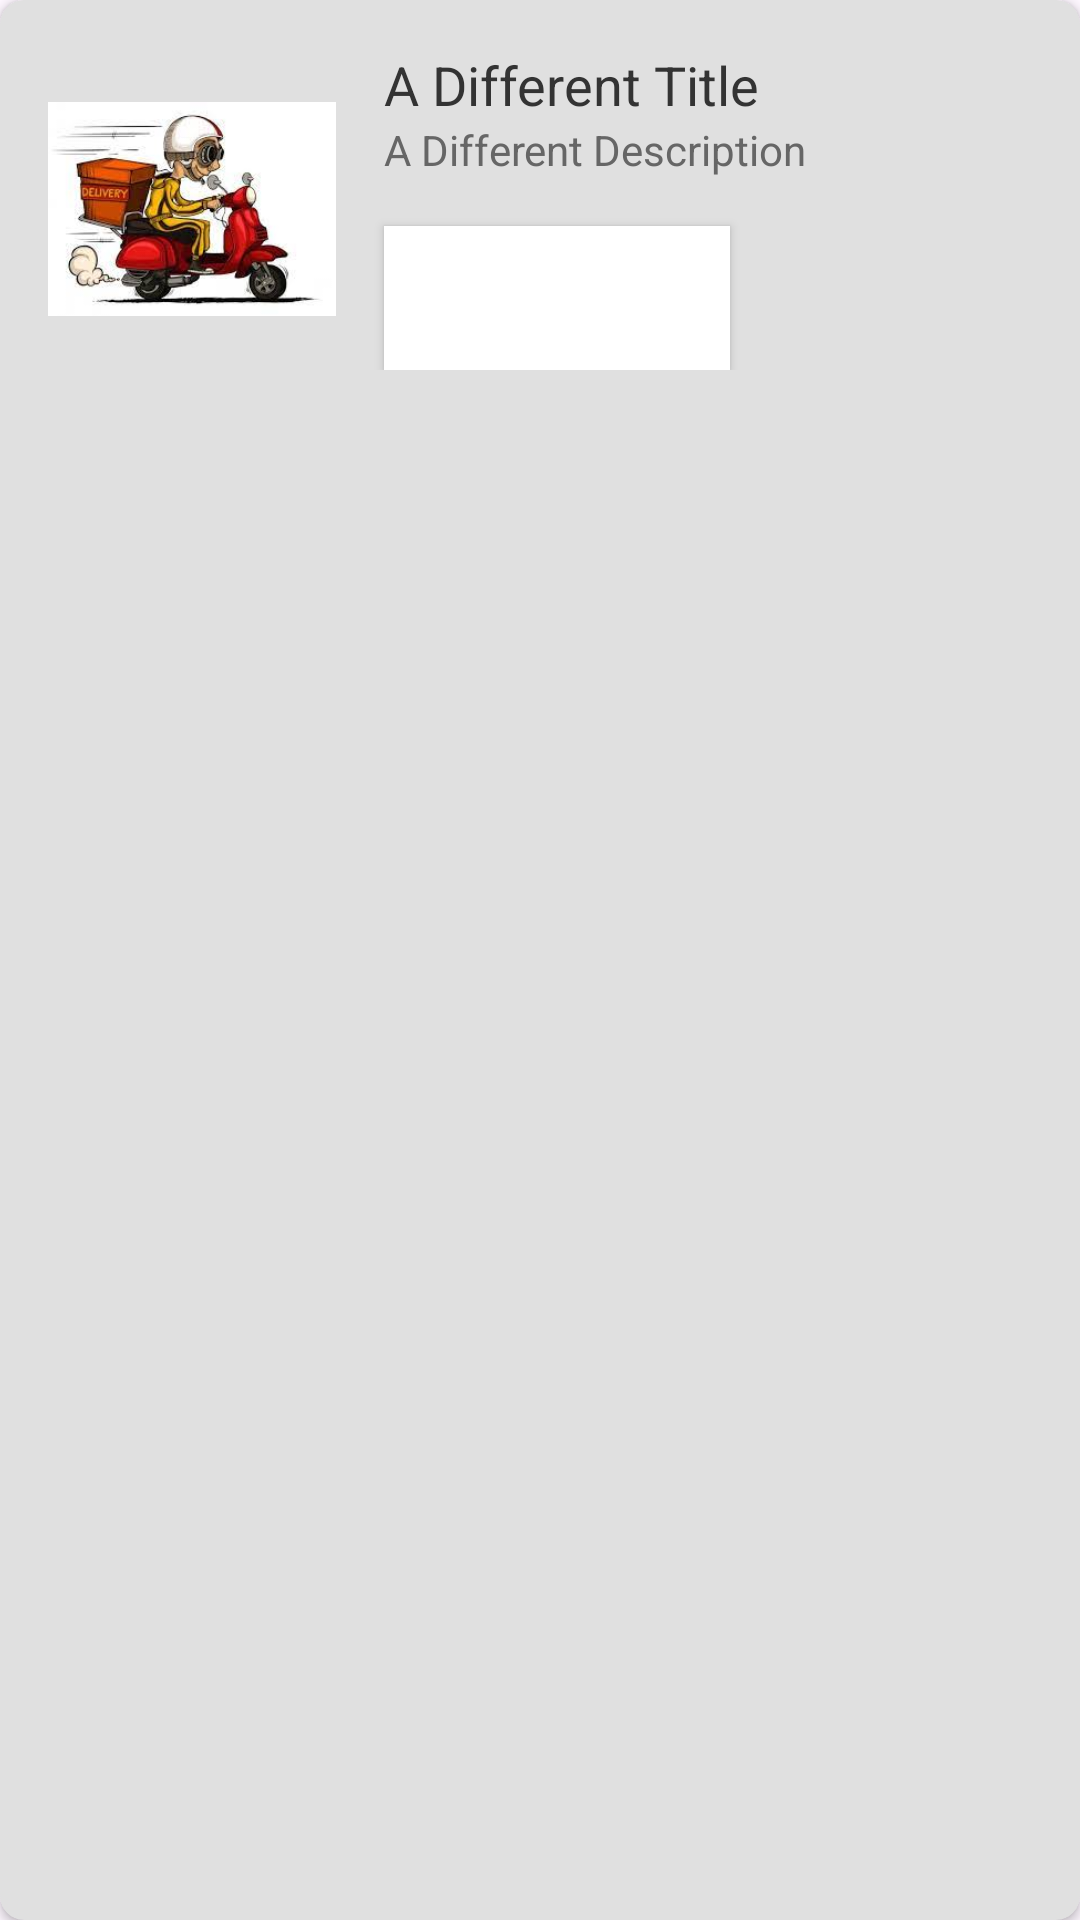

Screen size 1080*1920. Icon name, then its box in pixels as [x1=x1, y1=y1, x2=x2, y2=y2]:
Change safedrop image: [x1=48, y1=102, x2=336, y2=316]
